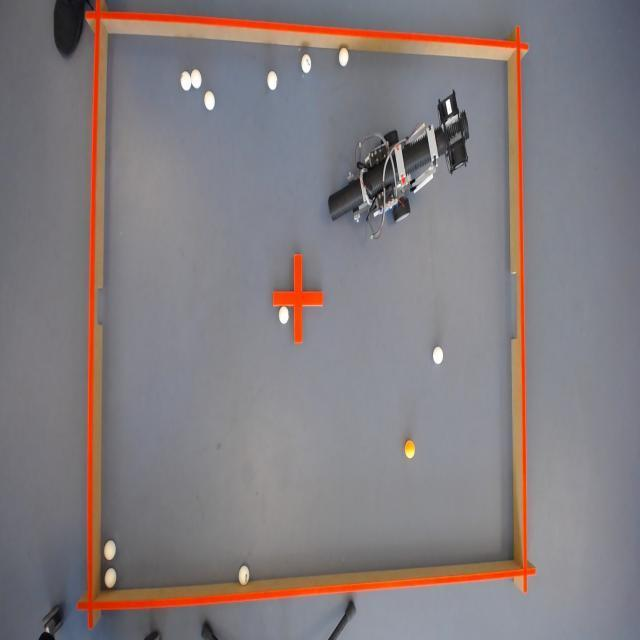orange: (403, 438, 415, 459)
robot: (332, 106, 462, 228)
white: (237, 566, 250, 590), (181, 68, 192, 92), (203, 90, 216, 110), (102, 568, 115, 588), (336, 47, 349, 66), (104, 539, 115, 561), (432, 344, 444, 364), (267, 71, 278, 91), (278, 304, 288, 324), (300, 54, 310, 73), (192, 68, 200, 89)
